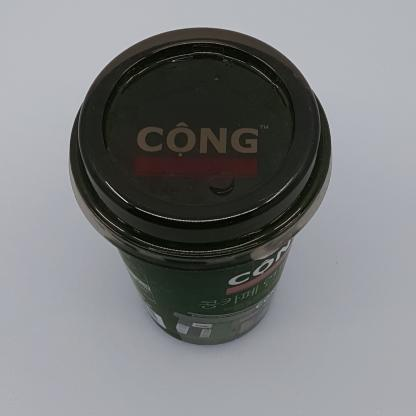---------: (69, 28, 332, 345)
